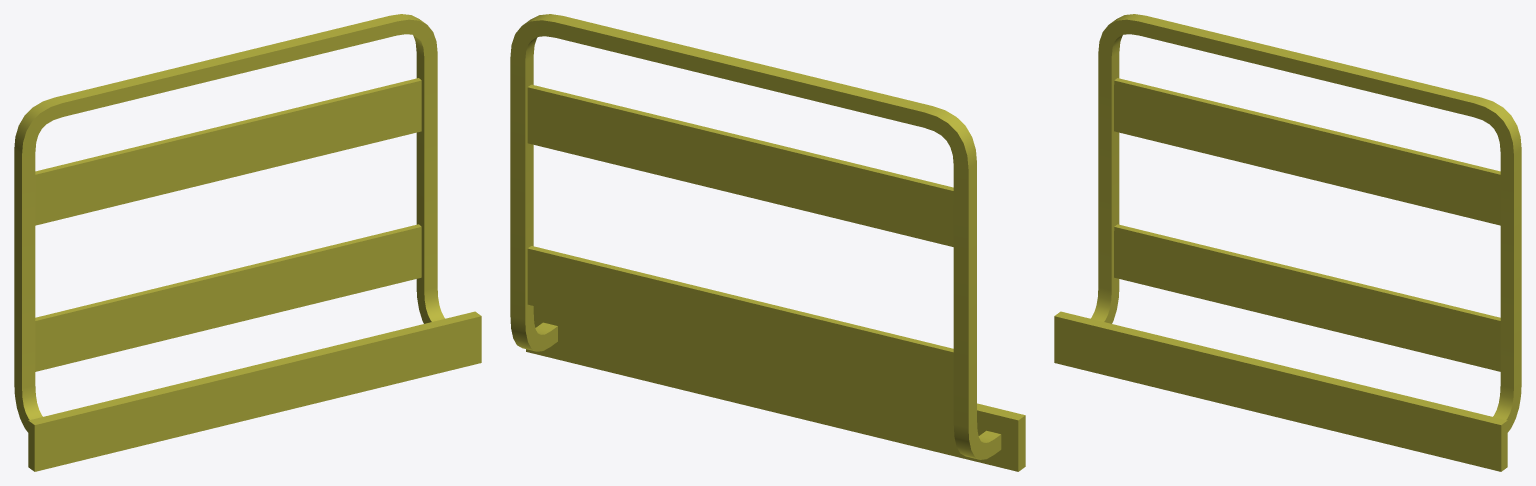
The model's file is Railings_A_2m.FBX.
3 views of the same model, side by side, from view 1: azimuth 30°, elevation 25°; view 2: azimuth 150°, elevation 25°; view 3: azimuth 330°, elevation 25° (orthographic). The views are drawn at different scales.
Visible parts, largest first — view 1: Railings_A_2m; view 2: Railings_A_2m; view 3: Railings_A_2m.
Boxes of the visible parts, box(x1,y1,x2,y2) form: Railings_A_2m: box(14, 14, 481, 471); Railings_A_2m: box(510, 14, 1025, 471); Railings_A_2m: box(1054, 14, 1521, 471).
Size of the model in its own units: 200 by 143 by 28.
